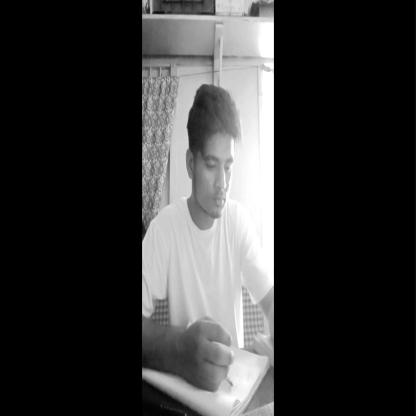Distracted: (184, 83, 242, 213)
